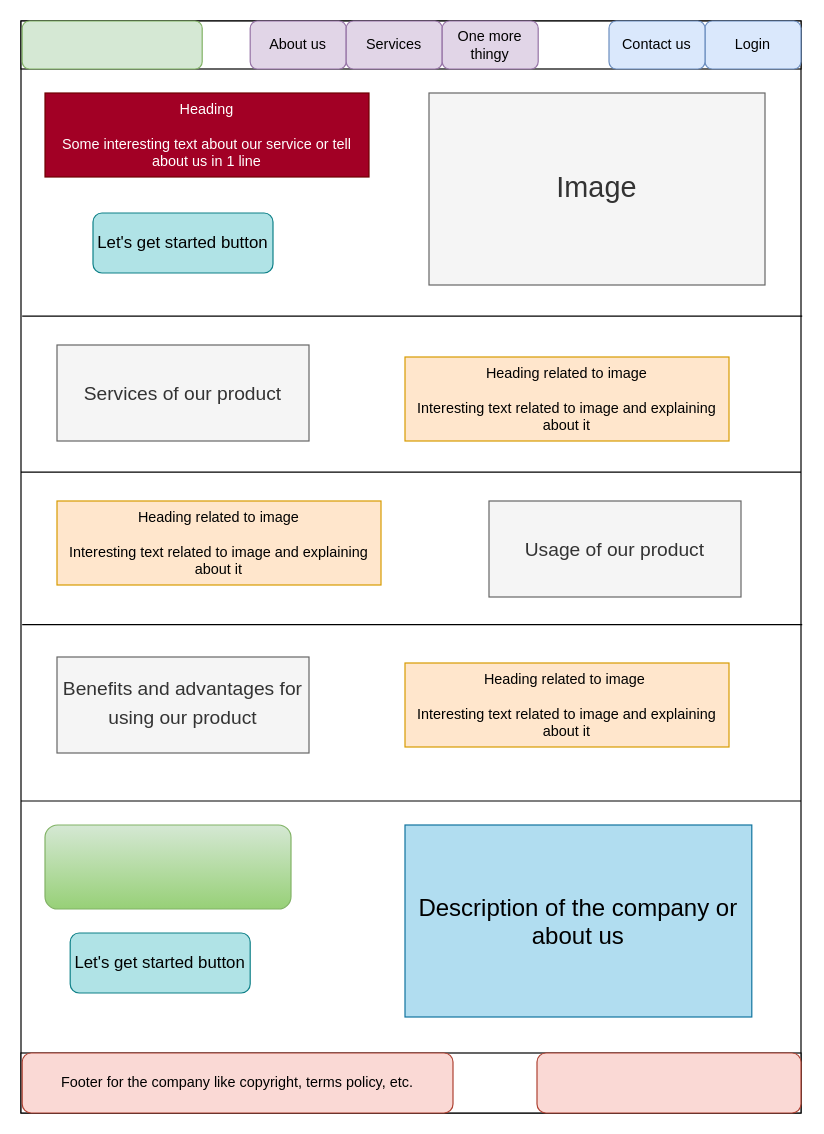
This 824x1134 diagram has some shape labels left out. The box of each missing label's shape, as (x1, y1, x2, y2) in pixels:
Company's Name: (44, 824, 291, 909)
Company's name with logo: (21, 20, 202, 69)
Logos of different sites where you connect with us or lookup at: (536, 1052, 801, 1113)
